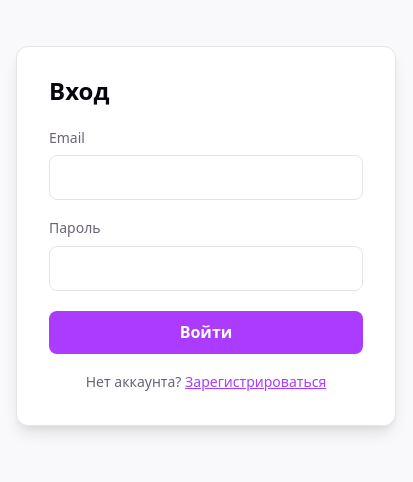
Scenario: Login page › shows a fallback error when the server gives no detail
Type "alice@example.com" into the field labelled "Email".
click(206, 178); type("alice@example.com")  # box [49,155,363,200]
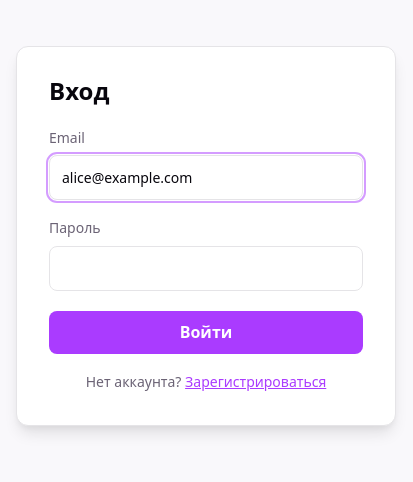
Type "password123" into the password field labelled "Пароль".
click(206, 268); type("password123")  # box [49,246,363,291]
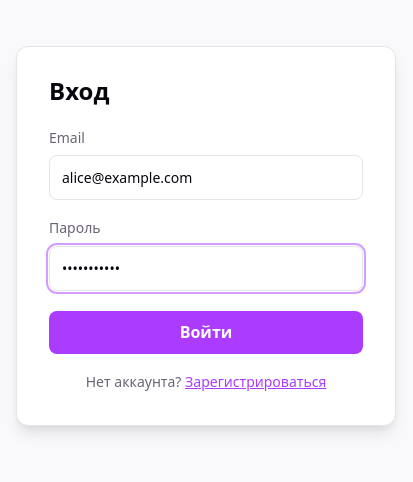
Click the button "Войти".
click(206, 332)  # box [49,311,363,354]
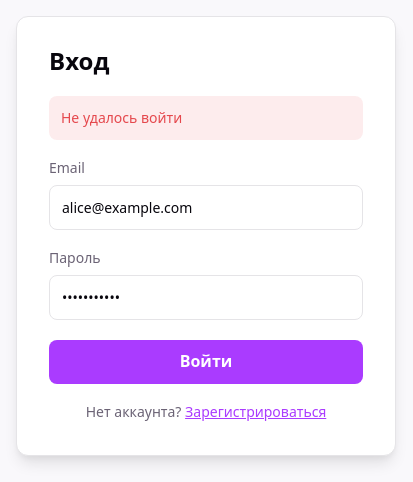
Check: the text "Не удалось войти" is shown, box [49,96,363,140]
